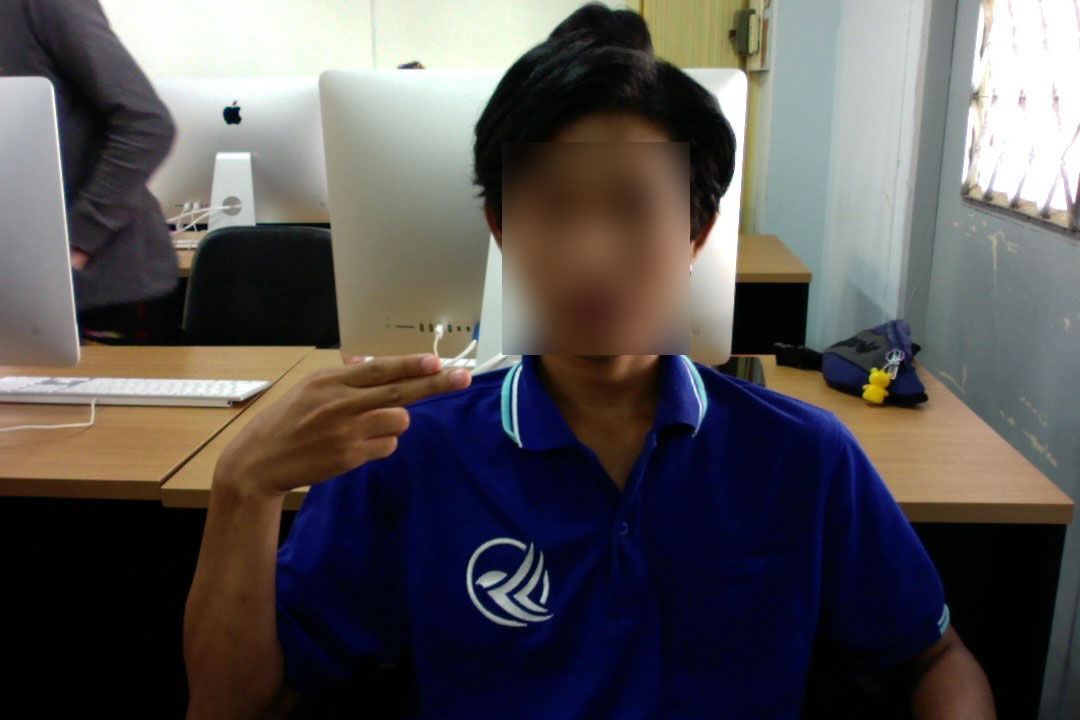hor: (205, 348, 485, 492)
